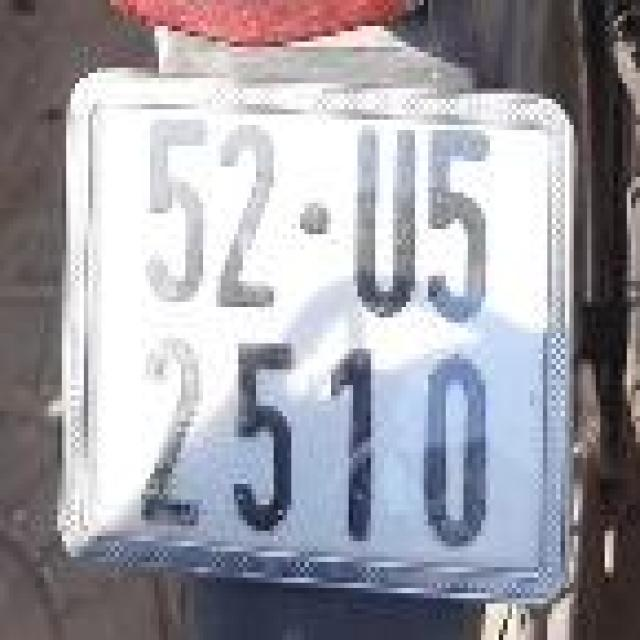0: (415, 341, 503, 544)
1: (329, 333, 386, 552)
2: (207, 117, 296, 320), (142, 330, 208, 544)
5: (227, 328, 316, 541), (132, 104, 212, 323), (426, 120, 496, 338)
U: (338, 115, 417, 318)
